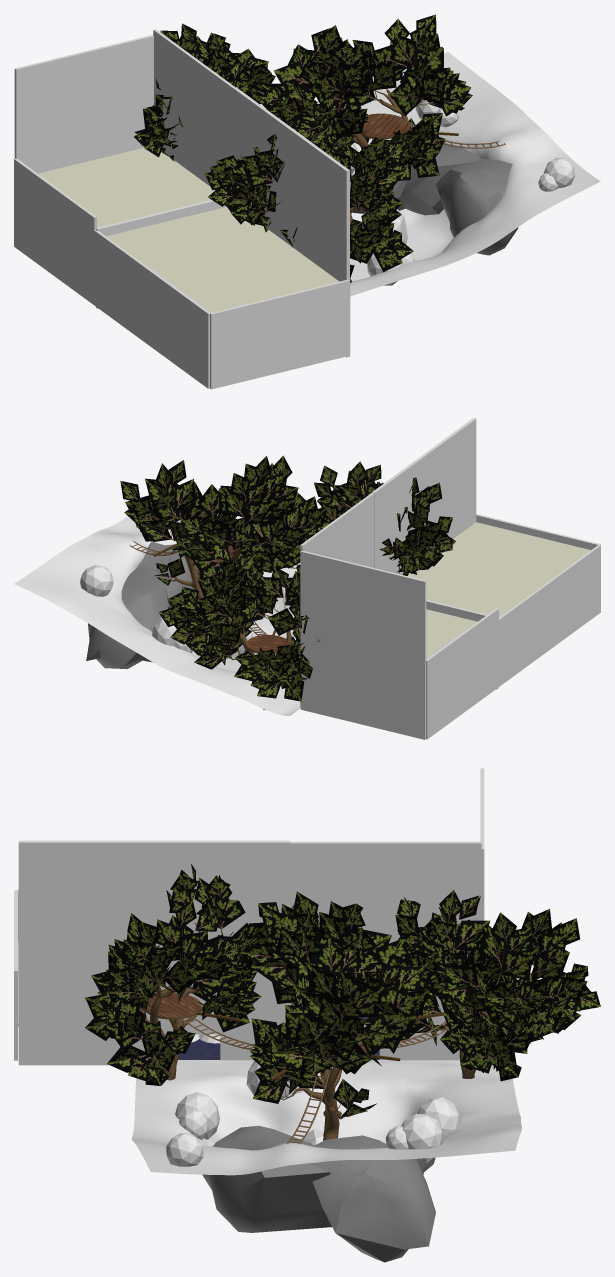
The model's file is map.fbx.
The picture shows the model from 3 angles, top to bottom: view 1: azimuth 30°, elevation 25°; view 2: azimuth 150°, elevation 25°; view 3: azimuth 270°, elevation 25°; orthographic projection. The views are drawn at different scales.
Visible parts, largest first — view 1: ground.008, oak leaf_2.003, ground, ground.009, Cube.013, ground.007, oak leaf_2.002, ground.001, ground.010, ground.006, Icosphere.001, oak leaf_2.001 (+5 smaller); view 2: ground.009, oak leaf_2.003, ground, oak leaf_2.001, ground.008, Cube.013, ground.001, ground.006, oak leaf_2.002, Icosphere.001, ground.010, ground.007 (+6 smaller); view 3: Cube.013, oak leaf_2.003, ground, oak leaf_2.001, oak leaf_2.002, Icosphere.001, ground.010, bush.002, bush.003, mossybark02_0.002, bush.005, Circle.002 (+5 smaller).
Boxes of the visible parts, x1=… form: ground.008: x1=38, y1=147, x2=338, y2=312; oak leaf_2.003: x1=259, y1=14, x2=472, y2=180; ground: x1=350, y1=52, x2=600, y2=296; ground.009: x1=14, y1=35, x2=153, y2=173; Cube.013: x1=233, y1=87, x2=349, y2=357; ground.007: x1=210, y1=279, x2=350, y2=389; oak leaf_2.002: x1=204, y1=121, x2=413, y2=283; ground.001: x1=94, y1=230, x2=210, y2=388; ground.010: x1=153, y1=29, x2=235, y2=190; ground.006: x1=14, y1=158, x2=96, y2=304; Icosphere.001: x1=350, y1=144, x2=518, y2=255; oak leaf_2.001: x1=134, y1=23, x2=275, y2=161; ground.009: x1=300, y1=551, x2=426, y2=739; oak leaf_2.003: x1=120, y1=455, x2=332, y2=586; ground: x1=14, y1=516, x2=300, y2=715; oak leaf_2.001: x1=158, y1=554, x2=320, y2=701; ground.008: x1=407, y1=522, x2=590, y2=658; Cube.013: x1=371, y1=418, x2=476, y2=574; ground.001: x1=498, y1=545, x2=600, y2=686; ground.006: x1=426, y1=608, x2=498, y2=739; oak leaf_2.002: x1=314, y1=461, x2=455, y2=575; Icosphere.001: x1=86, y1=541, x2=199, y2=669; ground.010: x1=300, y1=493, x2=374, y2=707; ground.007: x1=476, y1=514, x2=600, y2=549; Cube.013: x1=18, y1=840, x2=290, y2=1065; oak leaf_2.003: x1=240, y1=891, x2=442, y2=1118; ground: x1=132, y1=1060, x2=521, y2=1175; oak leaf_2.001: x1=395, y1=890, x2=600, y2=1081; oak leaf_2.002: x1=85, y1=864, x2=271, y2=1085; Icosphere.001: x1=202, y1=1125, x2=435, y2=1262; ground.010: x1=290, y1=841, x2=481, y2=1060; bush.002: x1=385, y1=1113, x2=443, y2=1149; bush.003: x1=175, y1=1092, x2=220, y2=1139; mossybark02_0.002: x1=280, y1=929, x2=399, y2=1140; bush.005: x1=166, y1=1133, x2=203, y2=1166; Circle.002: x1=144, y1=993, x2=201, y2=1019.
Size of what is drawn, in the model's own units: 10871 by 5667 by 10231.
